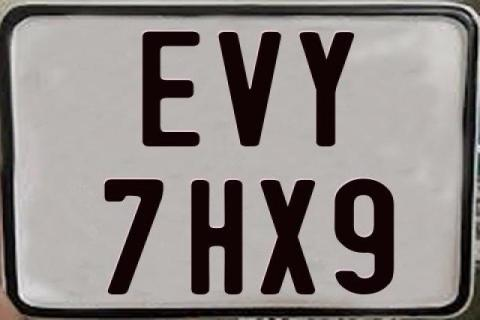0: (332, 179, 396, 299), (102, 179, 164, 299)
E: (139, 29, 197, 147)
H: (190, 178, 242, 294)
V: (216, 30, 284, 148)
X: (259, 179, 317, 297)
Y: (298, 31, 354, 149)
